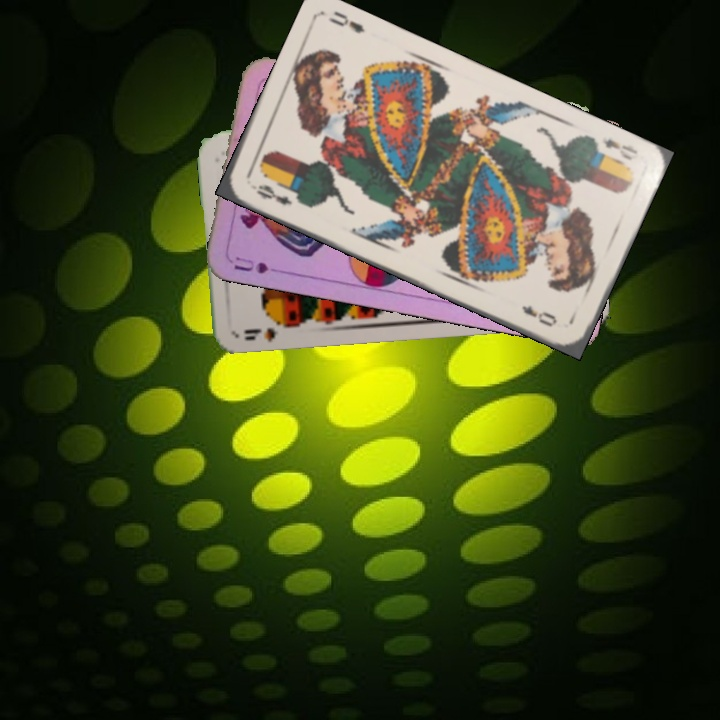EO: (246, 180, 295, 208), (599, 132, 640, 163)
S9: (240, 317, 294, 344)
SU: (230, 252, 288, 276)
